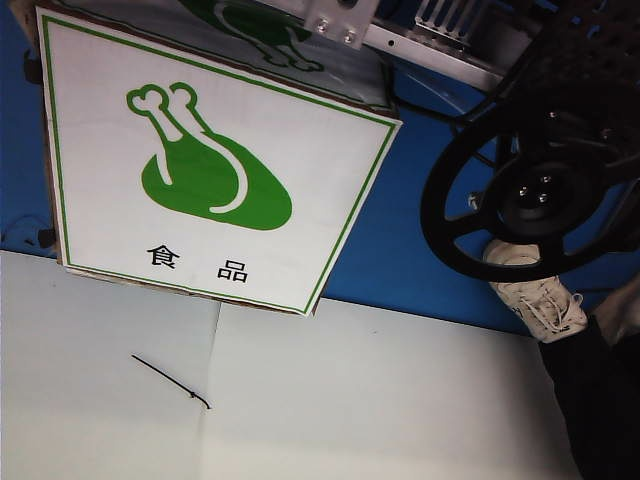Cube_food: (114, 75, 301, 292)
